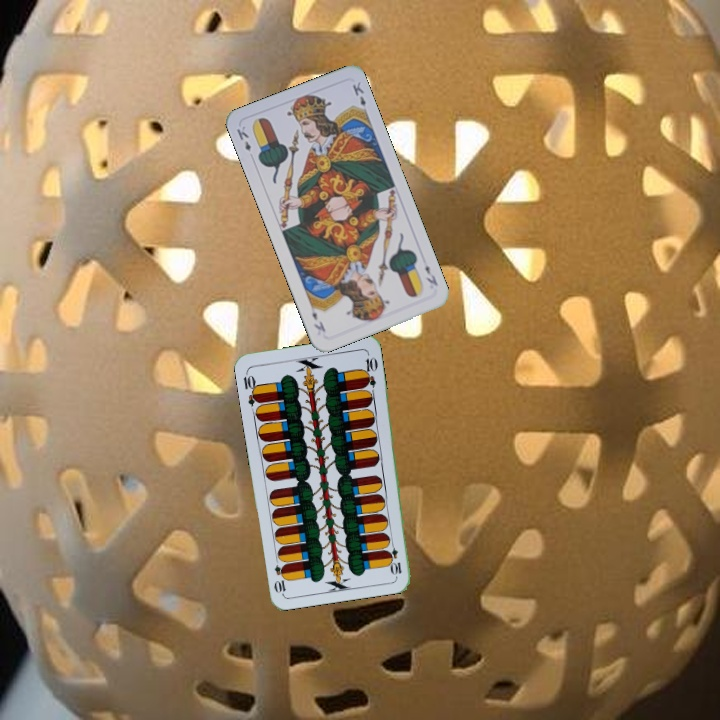E10: (239, 368, 262, 408), (385, 537, 404, 577)
EK: (232, 122, 253, 154), (421, 261, 441, 288)
